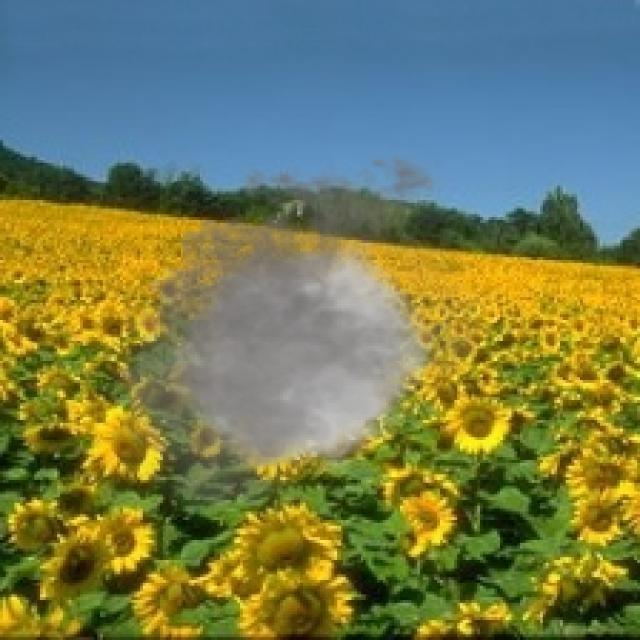Smoke: (94, 143, 503, 526)
